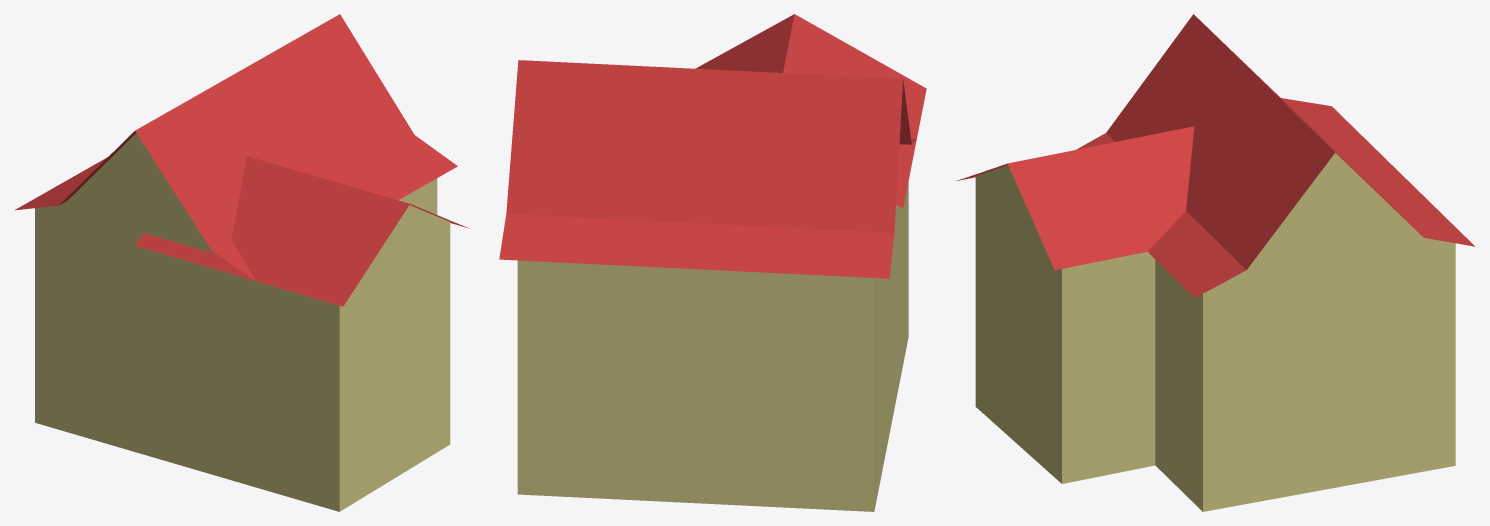
3 views of the same model, side by side, from view 1: azimuth 30°, elevation 25°; view 2: azimuth 150°, elevation 25°; view 3: azimuth 270°, elevation 25° (orthographic). The views are drawn at different scales.
Bounding box in the file's own units: 14.81 × 16.98 × 12.32.
